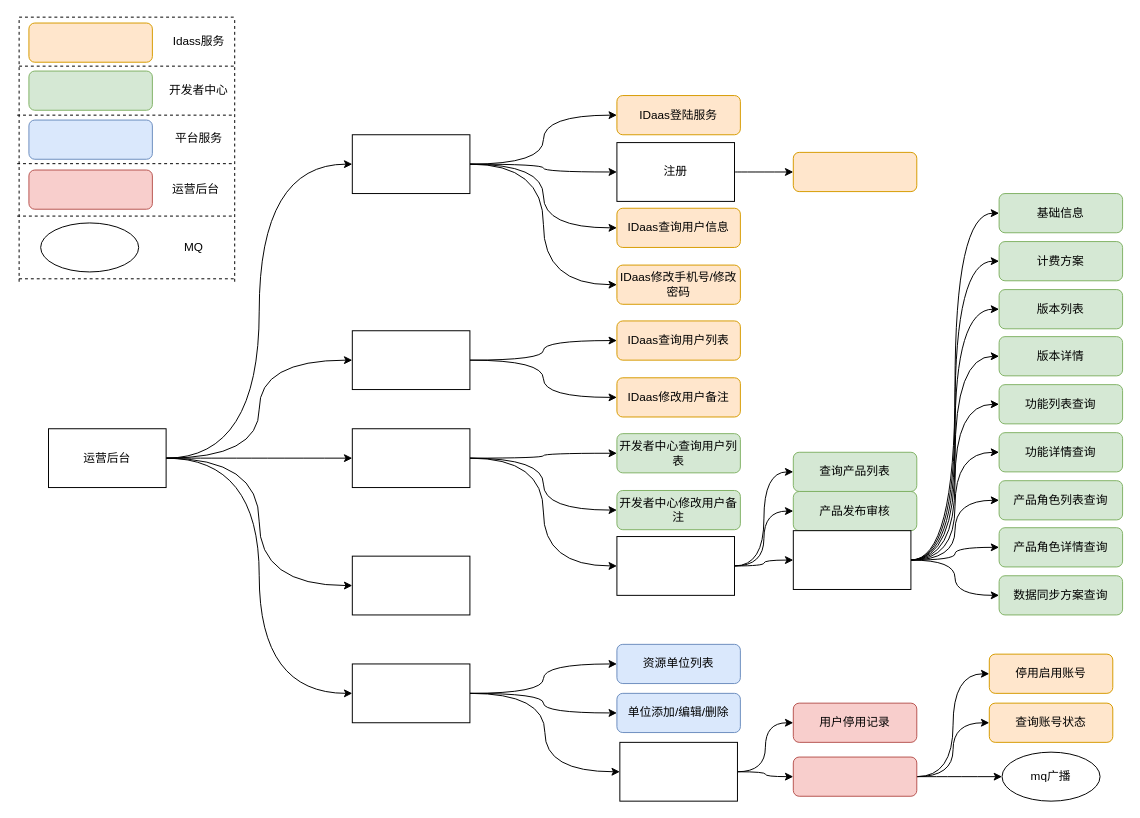
Some shapes in this 1140 by 818 pixel diagram are drawn without their labels. The shapes that lost their labels are listed below. From the top down, each one's box as (x1, y1, x2, y2) in pixels, then its label:
(351, 134, 470, 194): 登陆
(792, 151, 917, 192): IDaas注册服务
(351, 330, 470, 390): 用户管理
(351, 428, 470, 488): 开发者管理
(616, 536, 735, 595): 产品管理
(792, 530, 911, 589): 产品详情
(351, 555, 470, 615): 订单管理
(351, 663, 470, 723): 平台管理
(619, 741, 737, 801): 账户停用
(792, 756, 917, 796): 用户停启用
